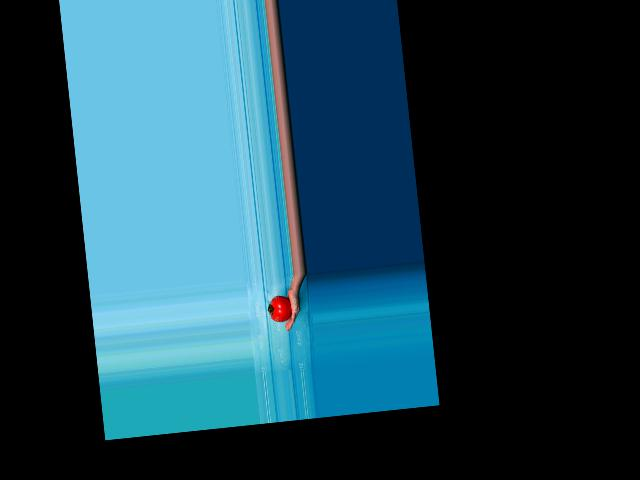tomato: (267, 295, 293, 323)
